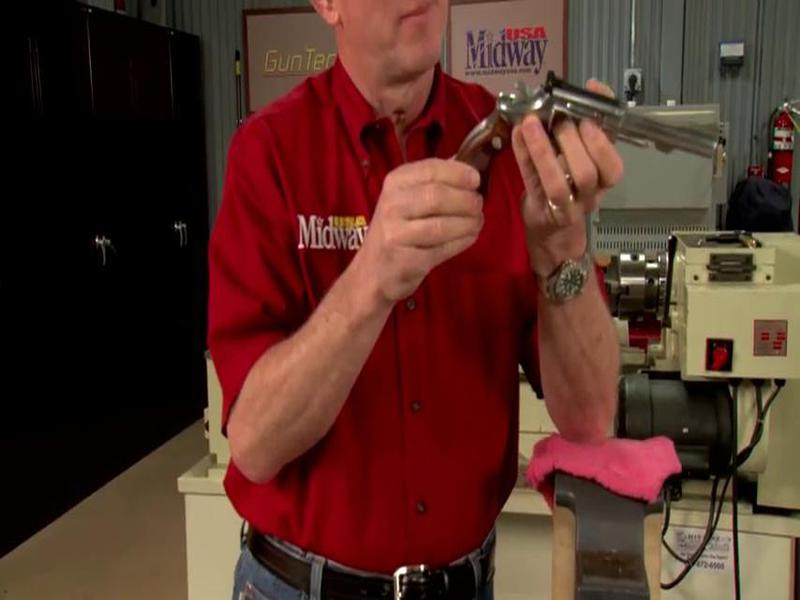Revolver: (401, 49, 746, 224)
